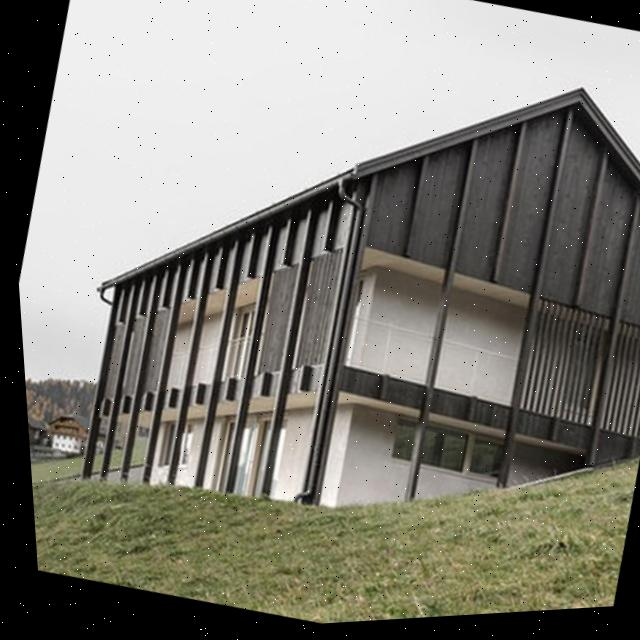building: (40, 0, 640, 599), (26, 378, 112, 474)
